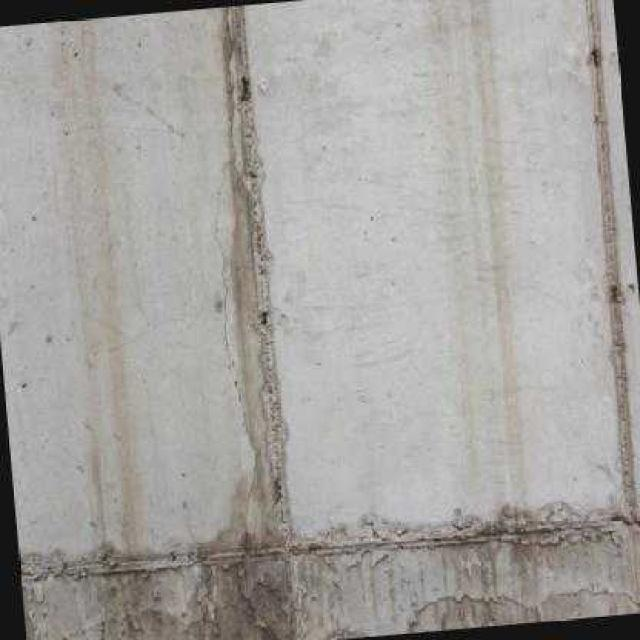D00: (214, 152, 259, 543), (221, 7, 246, 259)
